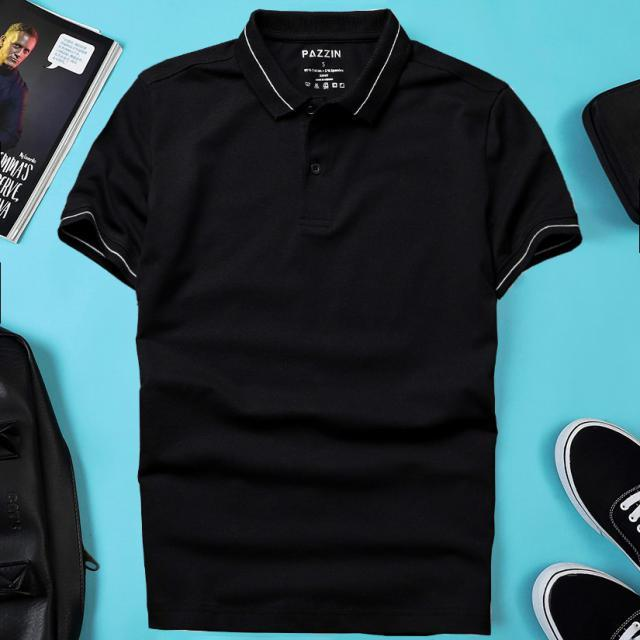Shirt: (61, 3, 586, 639)
